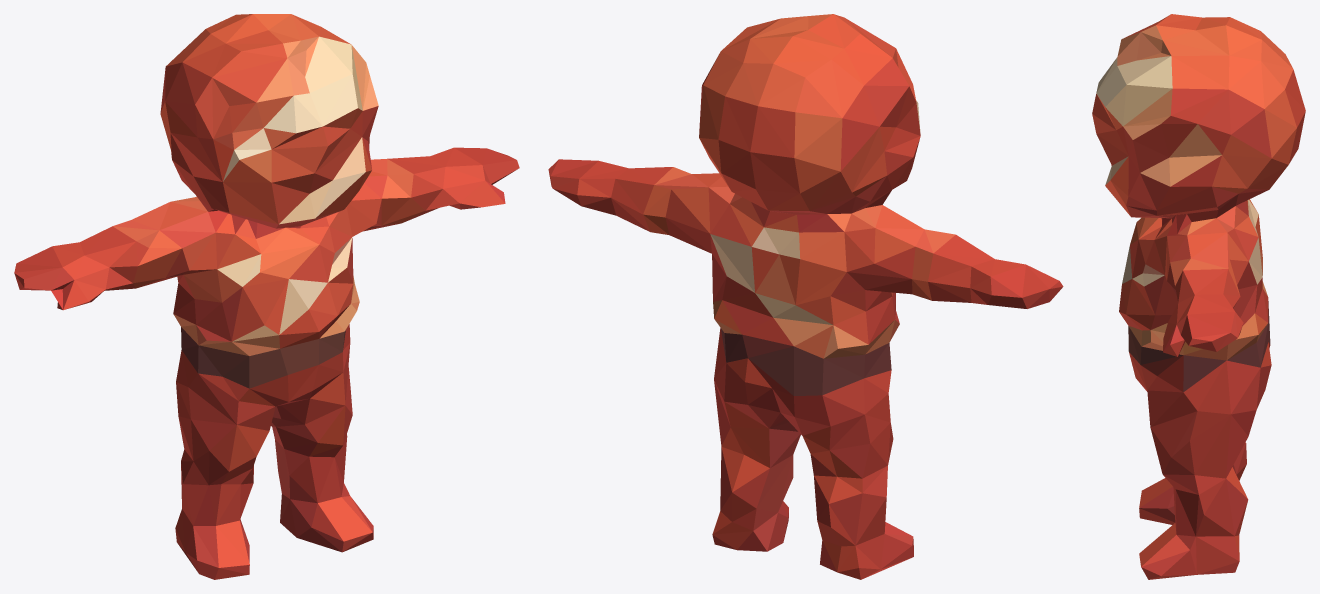
The model's file is the-save-mart-company-pork-butt-roast.glb.
3 renders of one model, left to right at view 1: azimuth 30°, elevation 25°; view 2: azimuth 150°, elevation 25°; view 3: azimuth 270°, elevation 25°, orthographic. The views are drawn at different scales.
Visible parts, largest first — view 1: retopo_mesh; view 2: retopo_mesh; view 3: retopo_mesh.
Boxes of the visible parts, x1,y1,x2,y2 form: retopo_mesh: [14, 14, 519, 579]; retopo_mesh: [548, 14, 1063, 579]; retopo_mesh: [1092, 14, 1305, 579].
Bounding box in the file's own units: 1.99 × 1.99 × 0.7463.
Materials: 1 (1 with a texture image).
